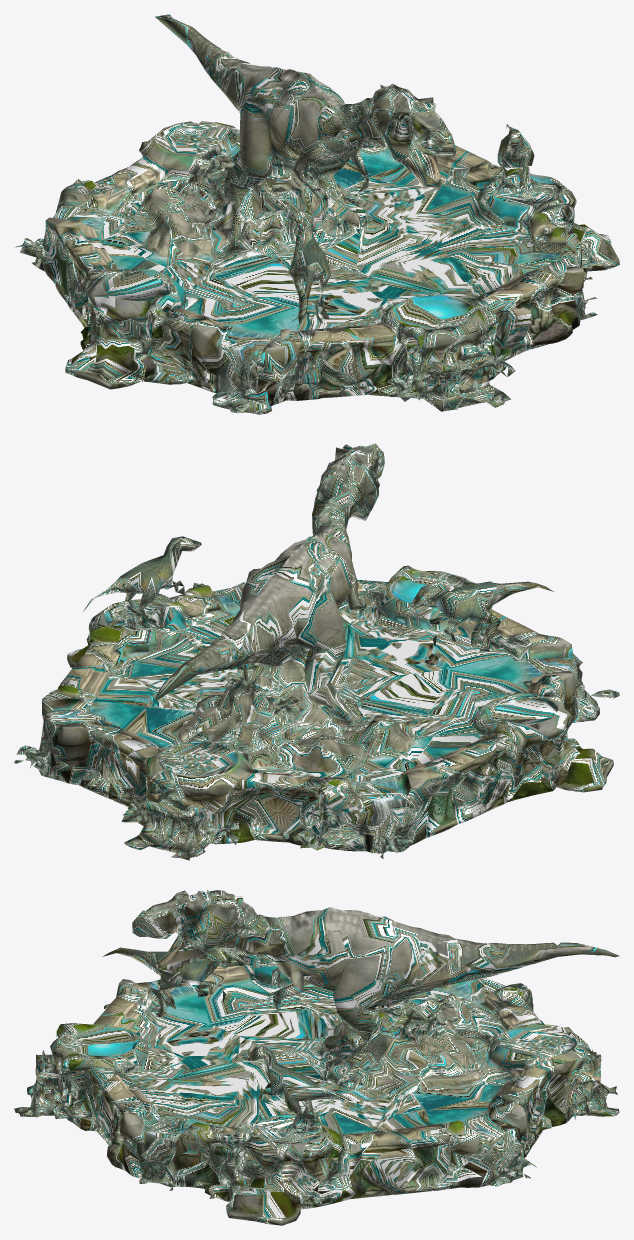
The model's file is fountain.glb.
3 renders of one model, top to bottom at view 1: azimuth 30°, elevation 25°; view 2: azimuth 150°, elevation 25°; view 3: azimuth 270°, elevation 25°, orthographic. The views are drawn at different scales.
Size of the model in its own units: 1.83 by 0.7766 by 1.9.
1 material, 1 textured.
